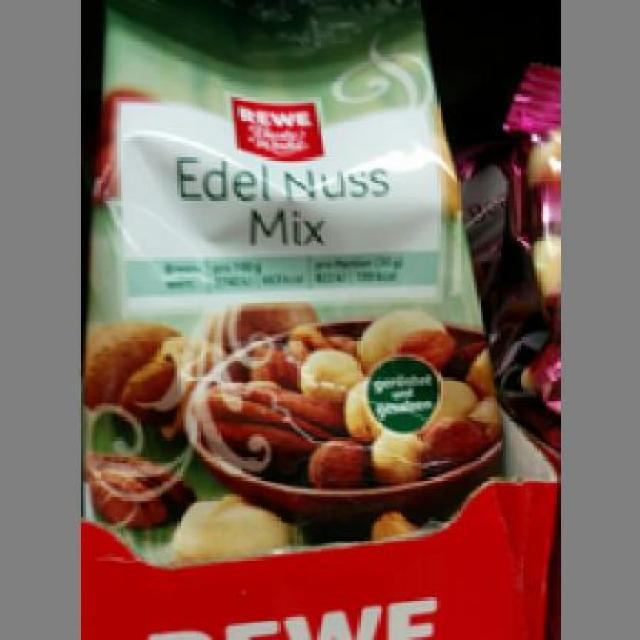Nuts: (80, 2, 503, 558)
